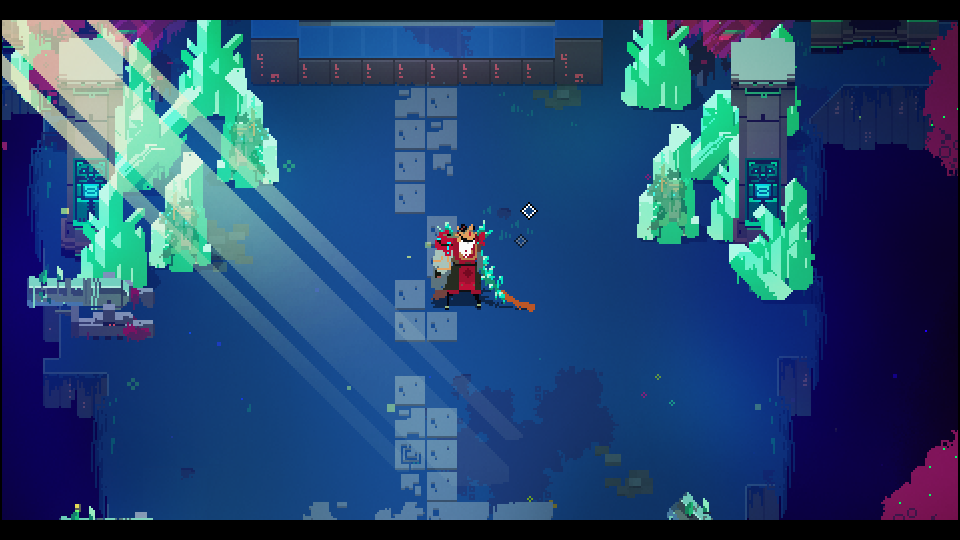hanged_man: (430, 221, 505, 305)
